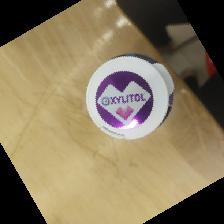Xylitol_BTS: (84, 52, 177, 141)
